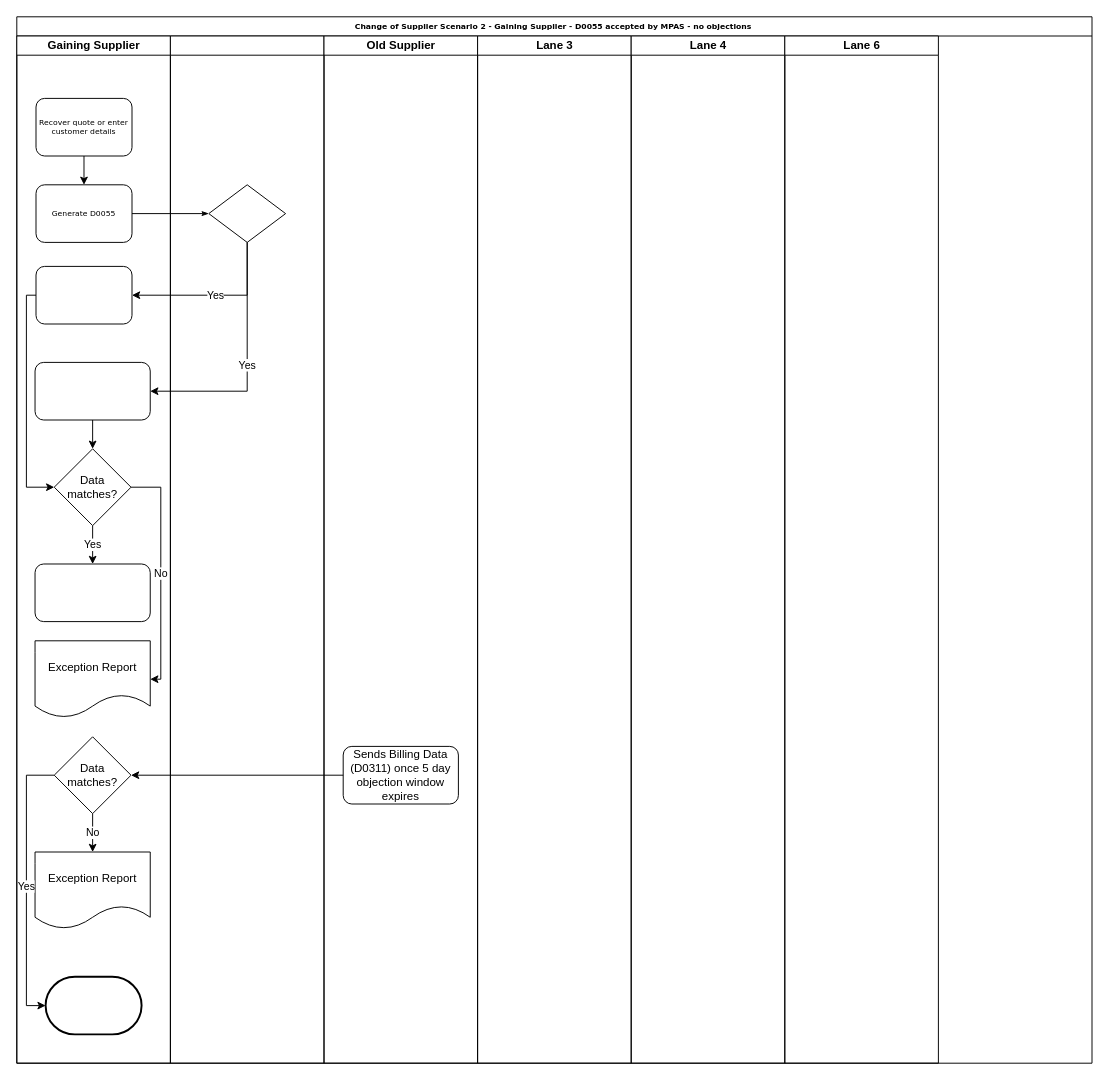
Some shapes in this 1109 by 1080 pixel diagram are drawn without their labels. The box of each missing label's shape, as (x1, y1, x2, y2) in pixels:
Accept D0055?: (208, 184, 286, 242)
MPAS: (169, 35, 324, 1063)
Process Ends: (44, 975, 142, 1035)
Receive D0217 (registration details): (35, 265, 132, 324)
Receive D0260 (old supplier registration details): (34, 361, 150, 420)
Update Customer Details & send welcome pack: (34, 563, 150, 622)
